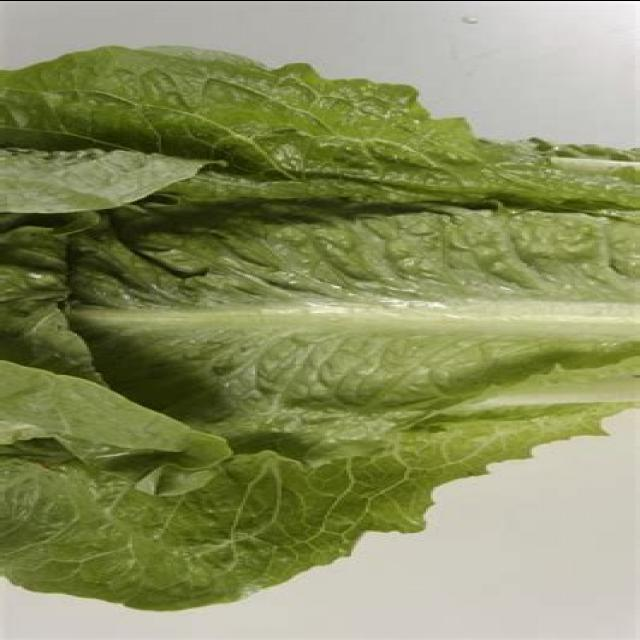healthy: (3, 66, 631, 544)
